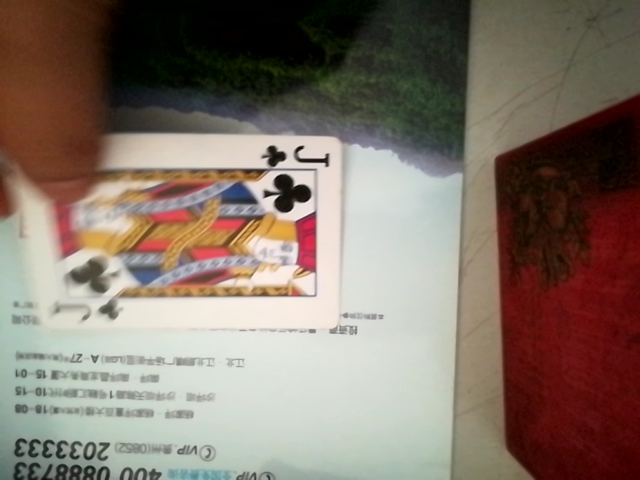mh j: (29, 132, 354, 333)
